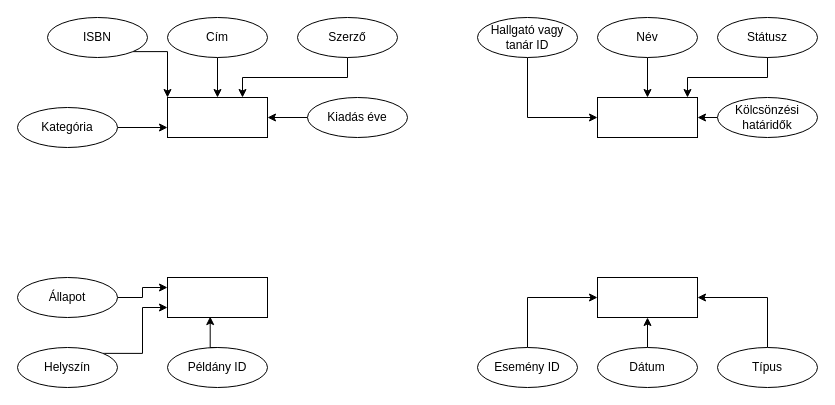
The diagram is 835 pixels wide and 405 high, and some of its shapes have lost their labels. The centre of each missing label's shape, as x and y in pixels:
"Felhasználó" goes at [647,117].
"Karbantartási esemény" goes at [647,297].
"Könyvek" goes at [217,117].
"Példány" goes at [217,297].
